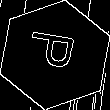P_E: (26, 32, 84, 78)
